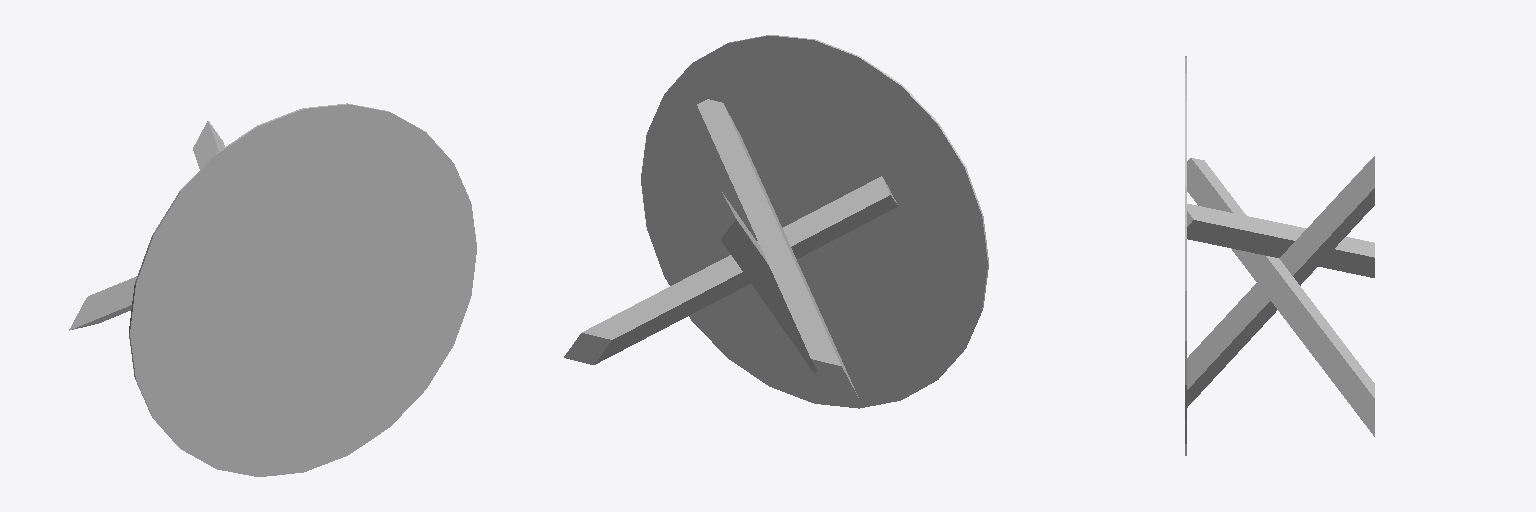
The model's file is round_table_chair_1.obj.
3 views of the same model, side by side, from view 1: azimuth 30°, elevation 25°; view 2: azimuth 150°, elevation 25°; view 3: azimuth 270°, elevation 25° (orthographic).
Visible parts, largest first — view 1: obj21, obj9, obj1; view 2: obj46, obj10, obj15, obj18, obj2, obj13, obj20, obj6, obj9; view 3: obj19, obj4, obj11, obj3, obj10, obj15.
Part boxes in pixels (bbox=[...]): obj21: bbox=[130, 104, 476, 476]; obj9: bbox=[69, 276, 136, 330]; obj1: bbox=[193, 121, 218, 168]; obj46: bbox=[641, 36, 987, 408]; obj10: bbox=[697, 99, 840, 365]; obj15: bbox=[582, 176, 889, 339]; obj18: bbox=[595, 195, 898, 364]; obj2: bbox=[721, 219, 816, 373]; obj13: bbox=[811, 359, 858, 399]; obj20: bbox=[564, 333, 611, 364]; obj6: bbox=[706, 190, 735, 238]; obj9: bbox=[724, 105, 858, 397]; obj19: bbox=[1187, 158, 1374, 436]; obj4: bbox=[1187, 156, 1374, 389]; obj11: bbox=[1187, 220, 1374, 277]; obj3: bbox=[1187, 188, 1374, 407]; obj10: bbox=[1187, 204, 1374, 257]; obj15: bbox=[1192, 158, 1374, 397].
Size of the model in its own units: 62.99 by 62.99 by 29.92.